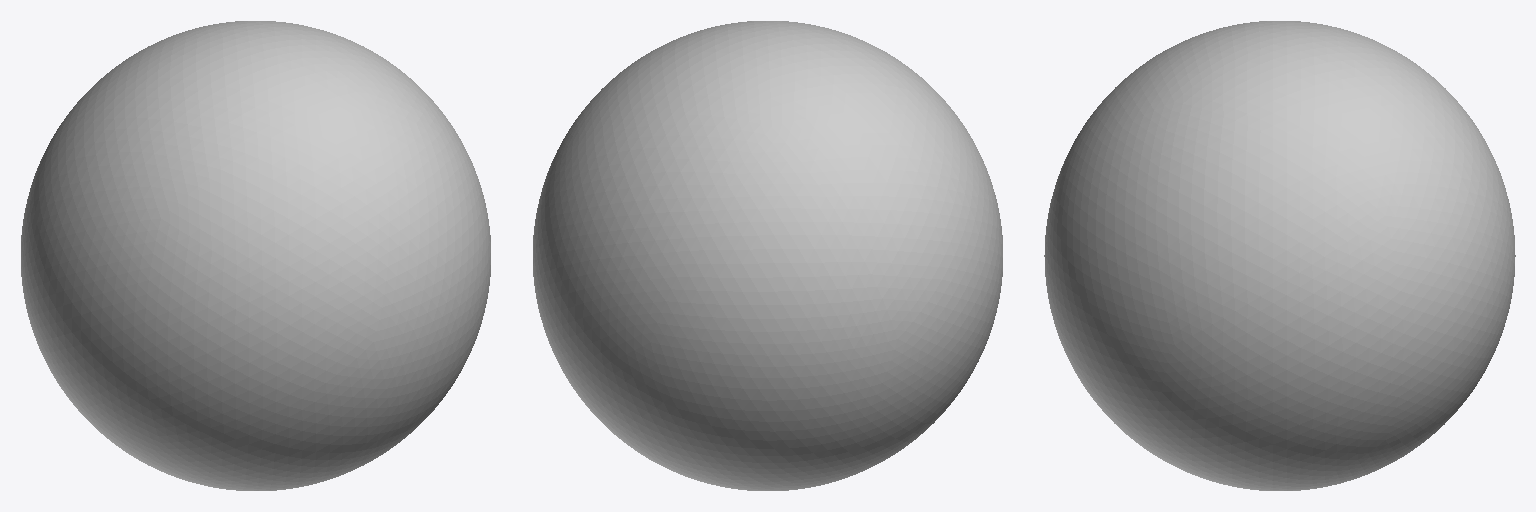
The picture shows the model from 3 angles: view 1: azimuth 30°, elevation 25°; view 2: azimuth 150°, elevation 25°; view 3: azimuth 270°, elevation 25°; orthographic projection.
Visible parts, largest first — view 1: pPlatonic1; view 2: pPlatonic1; view 3: pPlatonic1.
Boxes of the visible parts, x1=… form: pPlatonic1: x1=21, y1=21, x2=490, y2=490; pPlatonic1: x1=533, y1=21, x2=1002, y2=490; pPlatonic1: x1=1044, y1=21, x2=1515, y2=490.
Bounding box in the file's own units: 4 × 4 × 4.